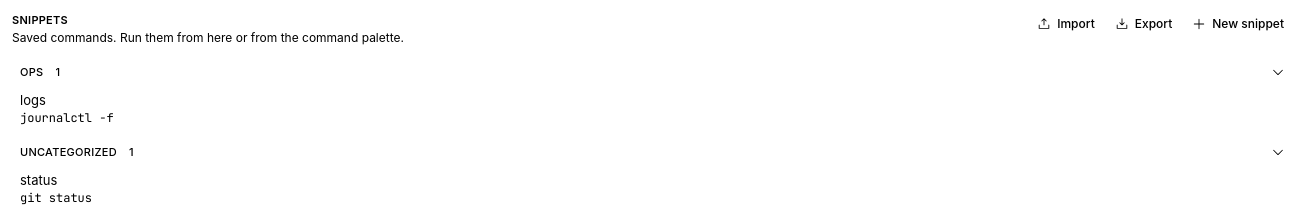
Scenario: SnippetsPanel › collapses a category
The image size is (1304, 222).
Click the button named "Collapse" in the row of "ops" at (1278, 72), box [1268,62,1288,82]
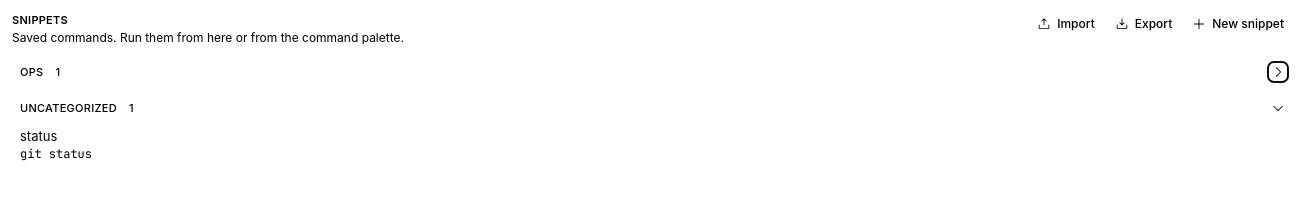
Expected: the element "ops" no longer shows "journalctl", [12,58,1292,86]
